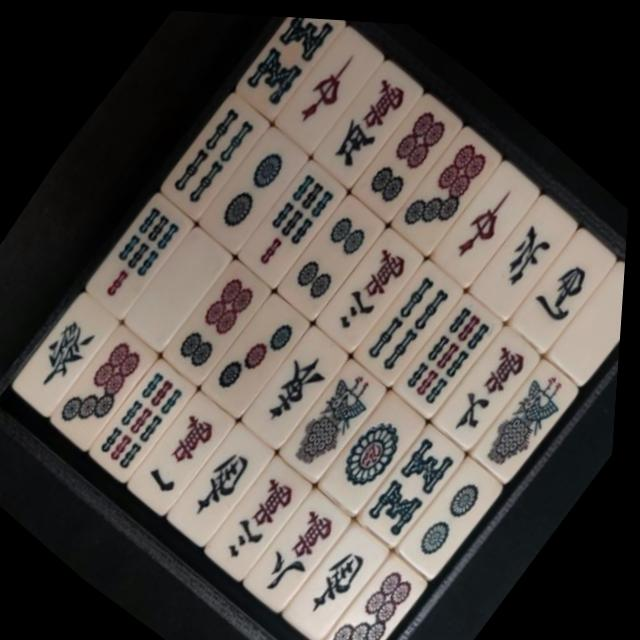hdg: (8, 282, 121, 411)
hdr: (269, 17, 386, 150), (428, 147, 545, 280)
hdw: (119, 215, 236, 348), (548, 247, 628, 374)
hwe: (238, 315, 353, 444)
hwn: (471, 182, 582, 310)
hws: (165, 415, 277, 543), (284, 510, 394, 635)
hww: (509, 212, 622, 342)
sb1: (274, 345, 394, 479), (472, 341, 589, 474)
sb4: (155, 83, 273, 217), (351, 246, 468, 379)
sb7: (77, 181, 198, 318), (234, 149, 350, 281)
sb8: (357, 409, 473, 541), (231, 11, 348, 114)
sb9: (390, 280, 507, 412), (86, 350, 197, 478)
sc1: (126, 383, 236, 508)
sc3: (312, 214, 429, 346), (203, 446, 315, 574)
sc5: (307, 49, 425, 183)
sc7: (433, 312, 546, 442)
sc8: (243, 478, 355, 606)
sd1: (314, 378, 433, 511)
sd2: (195, 115, 311, 249), (397, 443, 510, 571)
sd3: (198, 282, 315, 415)
sd4: (275, 184, 387, 312)
sd6: (348, 81, 468, 217), (157, 248, 275, 383)
sd7: (388, 112, 509, 249), (43, 313, 162, 447), (318, 536, 437, 640)
